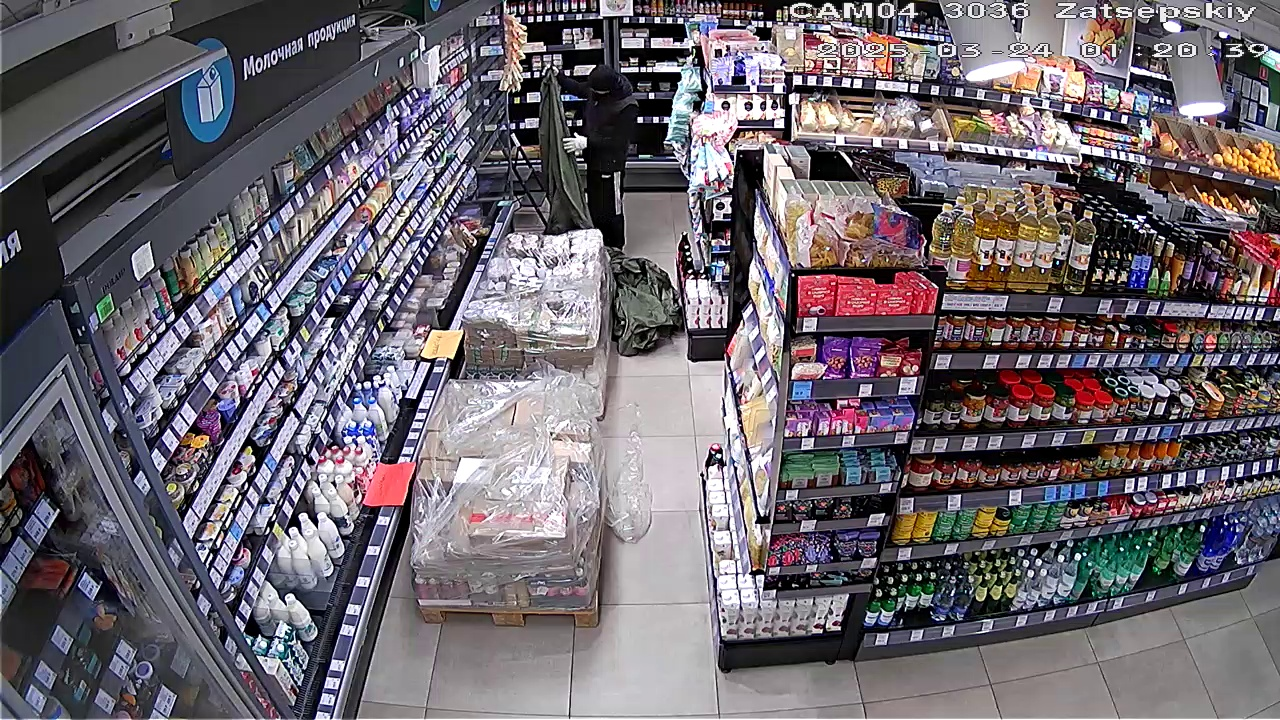Human: (559, 52, 640, 239)
pallet: (403, 370, 604, 621), (464, 224, 603, 371)
